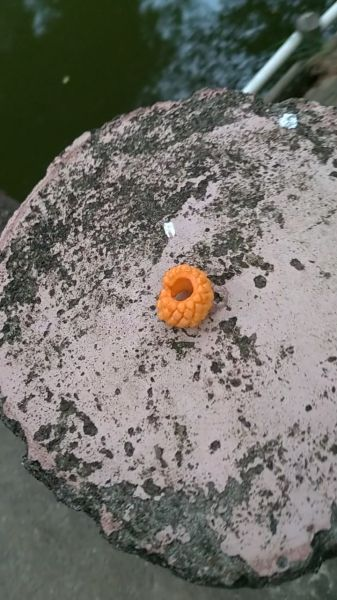eggs: (152, 258, 217, 331)
